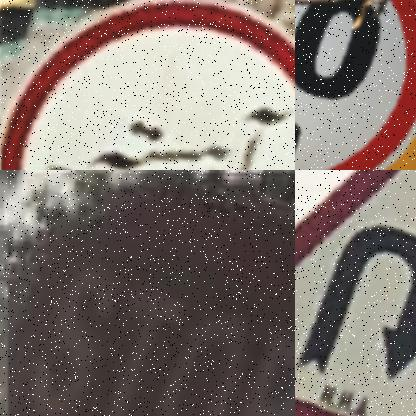Slow: (2, 0, 295, 170)
Speed Limit -20 kmph-: (295, 0, 416, 170)
Stop 2: (9, 174, 295, 416)
U-Turn: (295, 170, 416, 416)
